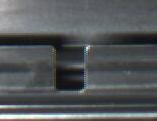oneu: (46, 41, 92, 97)
